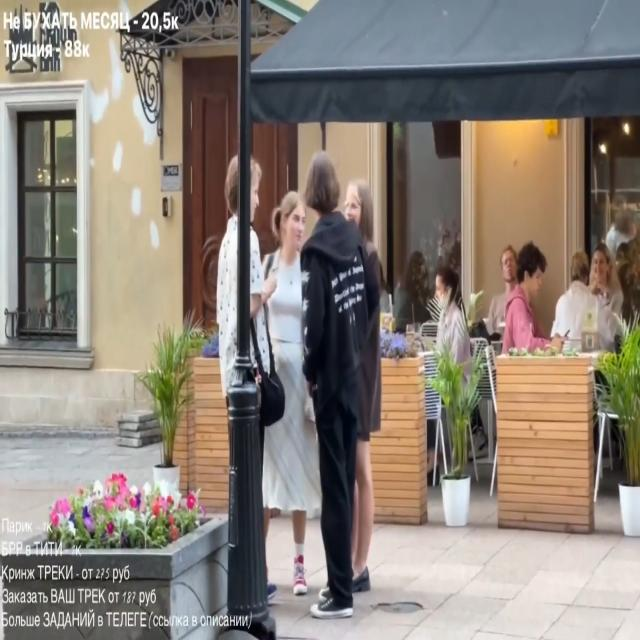Person: (226, 152, 327, 640), (291, 156, 384, 634), (551, 248, 623, 349), (504, 242, 555, 350), (482, 247, 526, 340), (393, 248, 433, 328), (426, 269, 462, 323)
